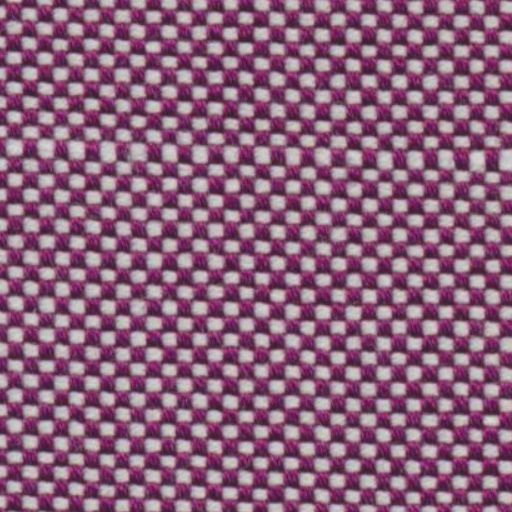TuoSha: (6, 111, 492, 195)
